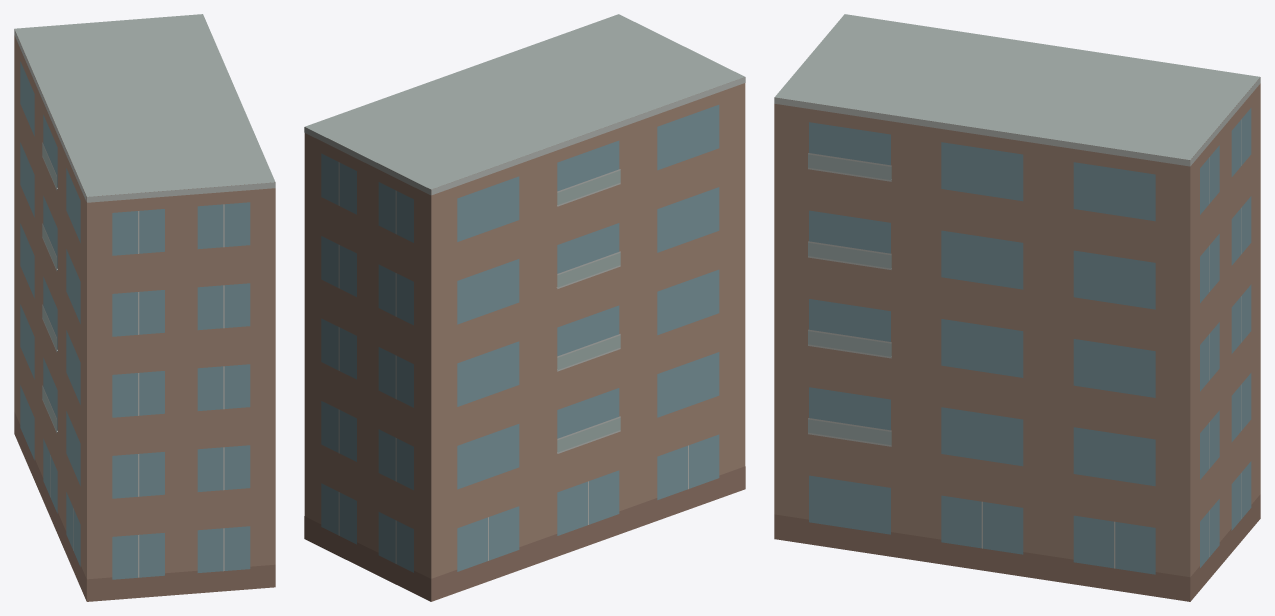
File: survey-upis-32888428.glb
The picture shows the model from 3 angles, left to right: view 1: azimuth 30°, elevation 25°; view 2: azimuth 150°, elevation 25°; view 3: azimuth 270°, elevation 25°; orthographic projection. The views are drawn at different scales.
Parts seen in each view (by area): view 1: survey-upis-32888428.tmp; view 2: survey-upis-32888428.tmp; view 3: survey-upis-32888428.tmp.
Part boxes in pixels (<box>): survey-upis-32888428.tmp: <box>14,14,275,601</box>; survey-upis-32888428.tmp: <box>304,14,745,601</box>; survey-upis-32888428.tmp: <box>774,14,1260,601</box>.
Size of the model in its own units: 12 by 16.9 by 16.87.
